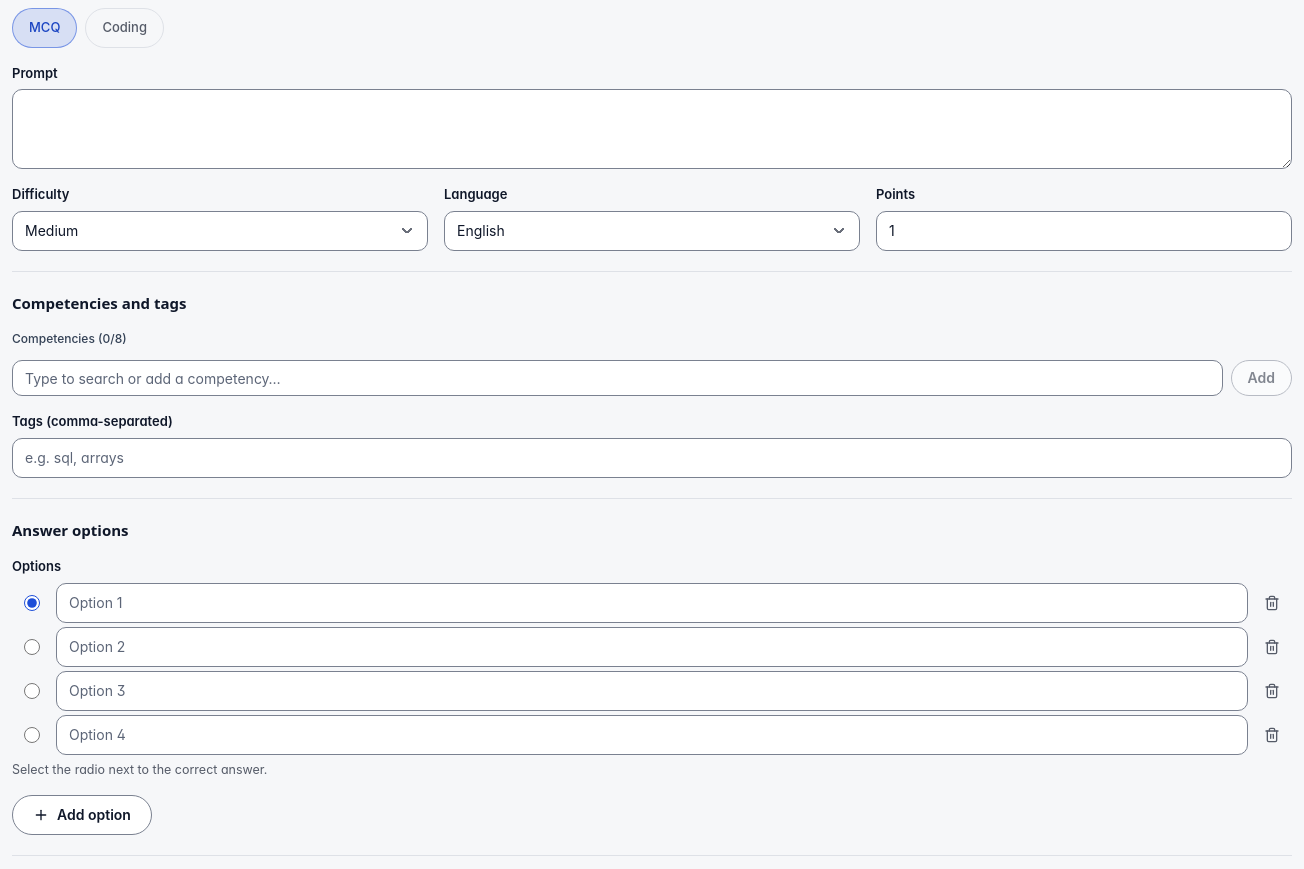
BankQuestionEditor - creating › defaults to MCQ, and refuses to save with a blank option
Type "What is a closure?" into the text box labelled "Prompt" at (652, 129), box 12,89 -> 1292,169
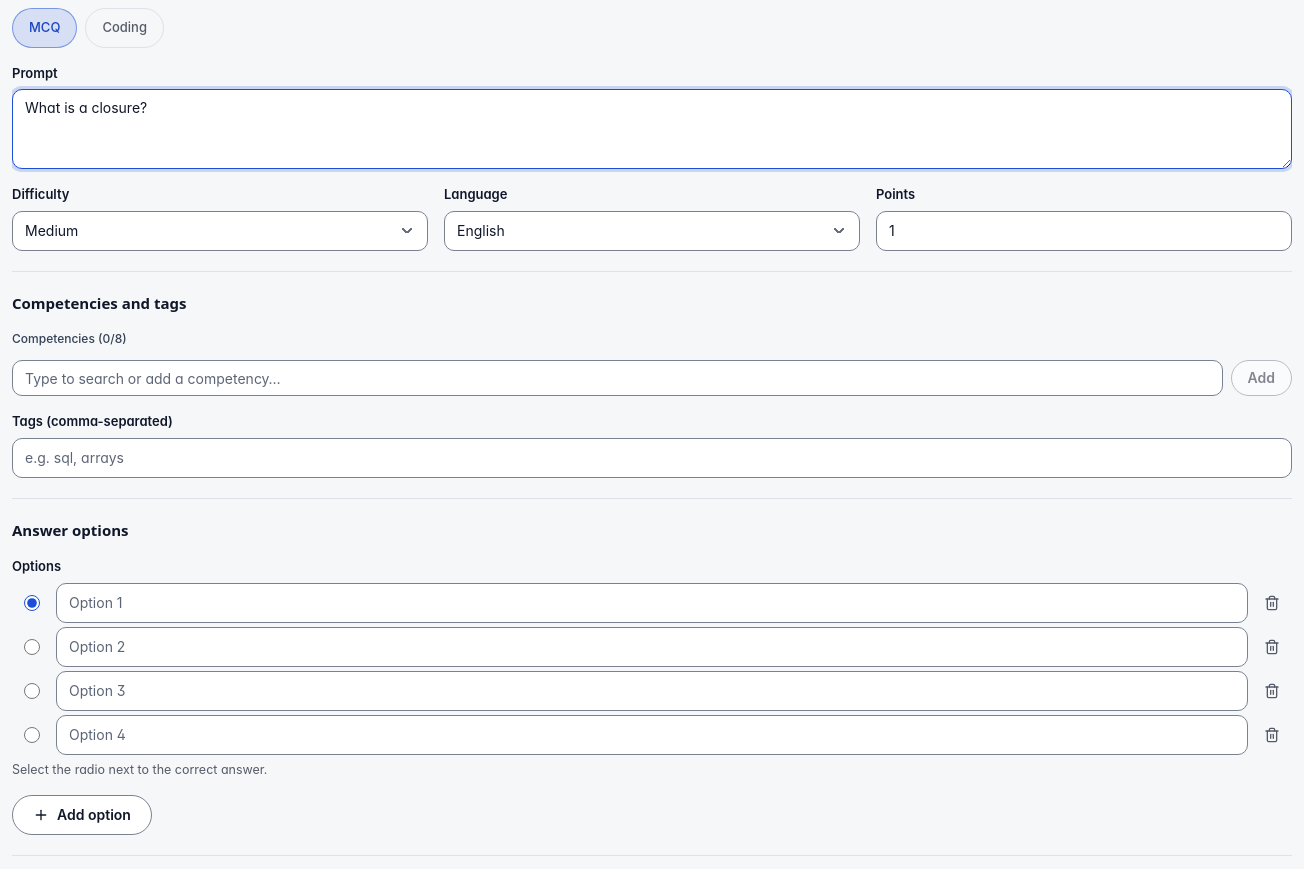
Type "A function with state" into the field labelled "Option 1" at (652, 602), box 56,582 -> 1248,622
(page scrolled)
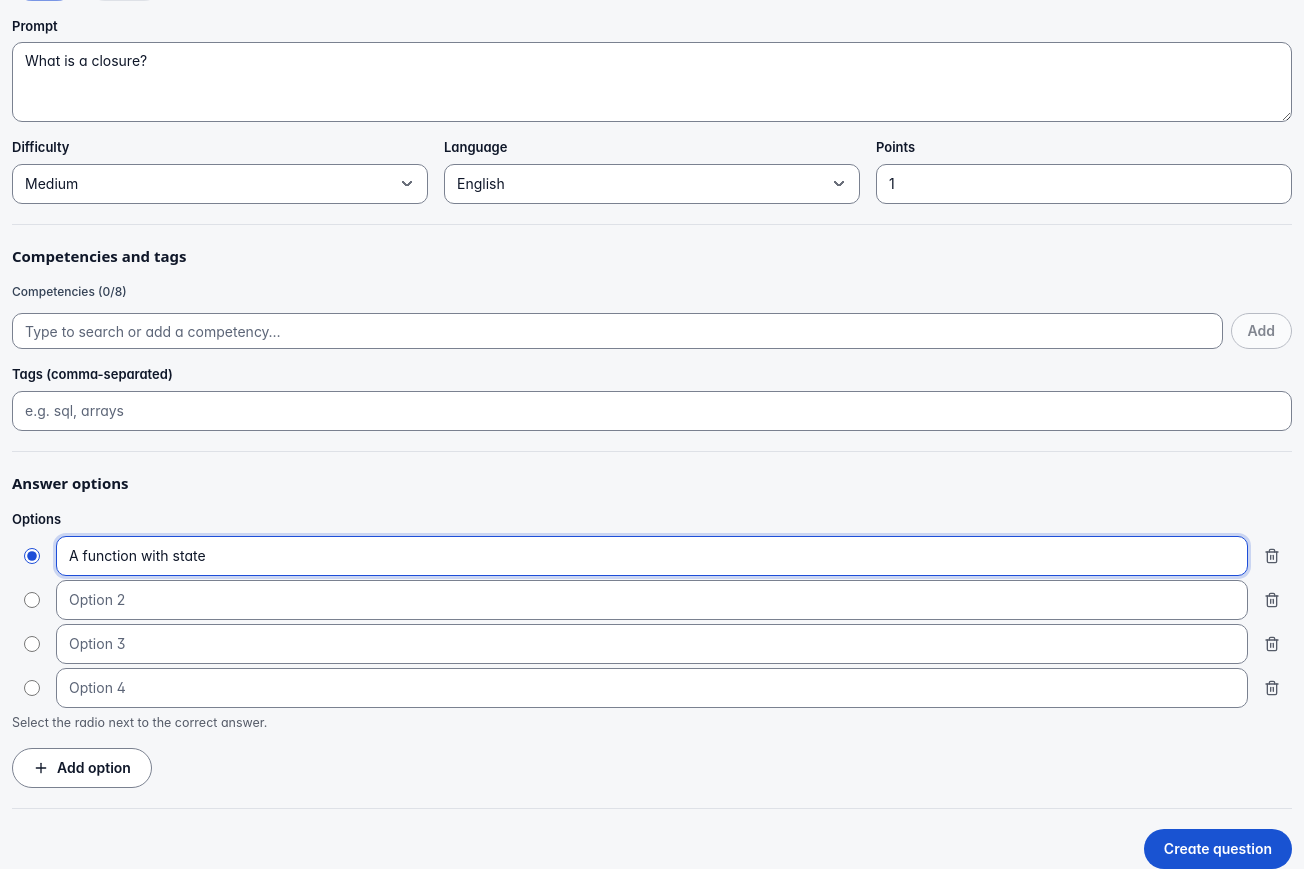
// Options 2-4 are left blank.
Click the button "Create question" at (1218, 849), box 1144,829 -> 1292,868
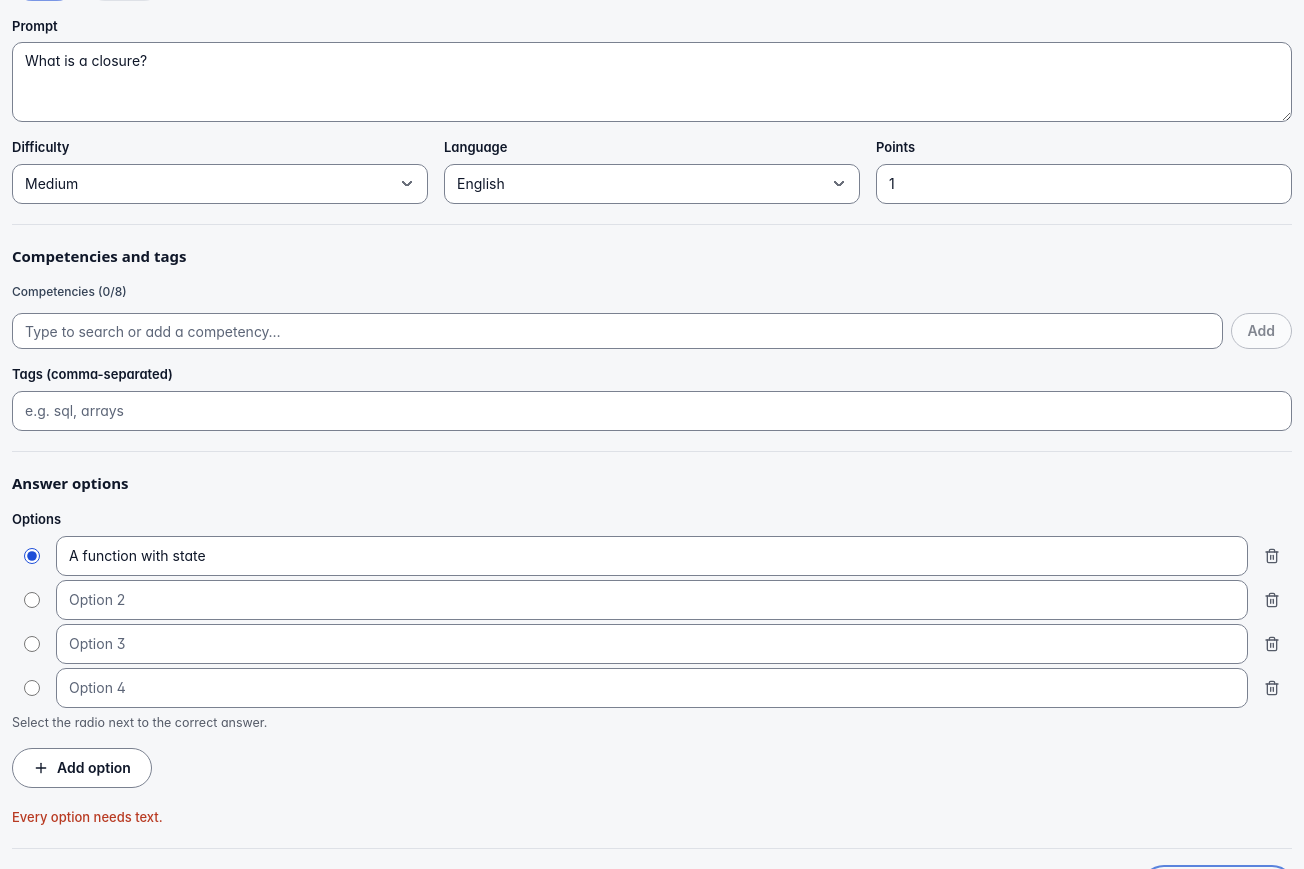
Expected: the text "Every option needs text." is shown, 12,809 -> 163,825
